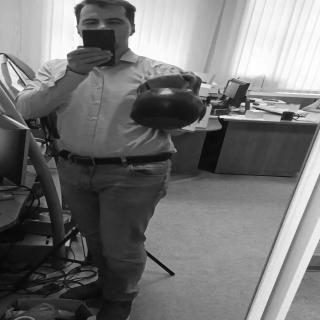kettlebell: (133, 69, 212, 132)
